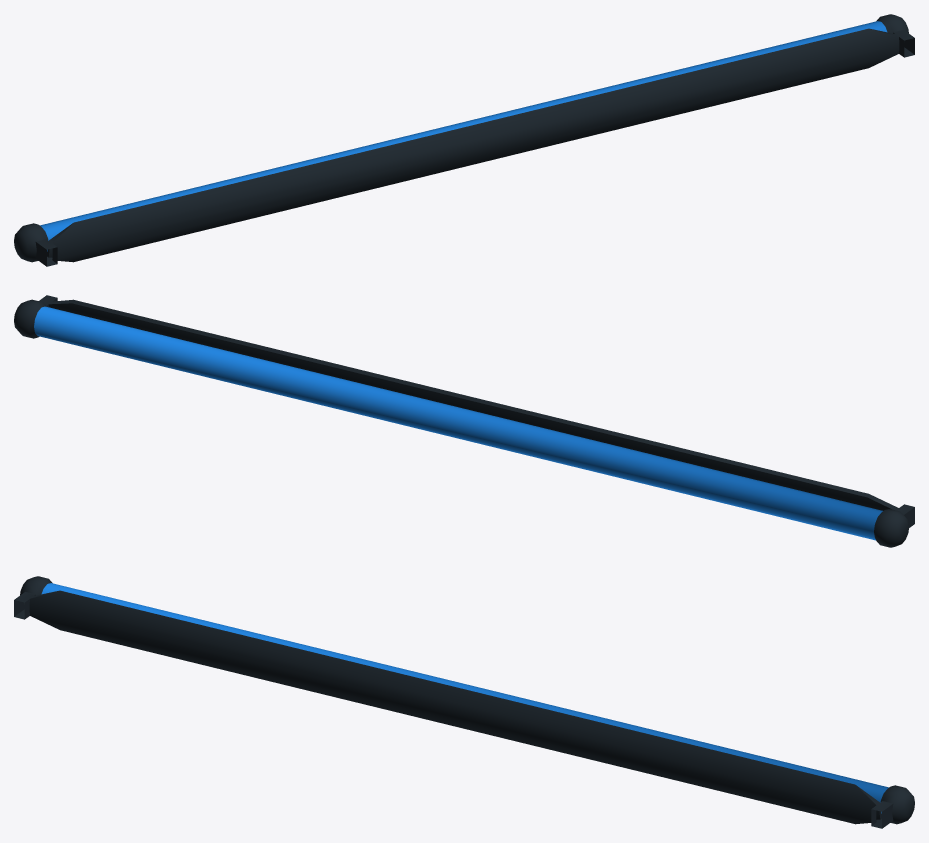
The model's file is OBJ_Lampe_Neon.fbx.
The picture shows the model from 3 angles, top to bottom: view 1: azimuth 30°, elevation 25°; view 2: azimuth 150°, elevation 25°; view 3: azimuth 330°, elevation 25°; orthographic projection.
Parts seen in each view (by area): view 1: Lampe_Neon; view 2: Lampe_Neon; view 3: Lampe_Neon.
Boxes of the visible parts, x1,y1,x2,y2 form: Lampe_Neon: [14, 14, 914, 266]; Lampe_Neon: [14, 295, 914, 547]; Lampe_Neon: [14, 576, 914, 828].
Size of the model in its own units: 134 by 5.73 by 7.54.
